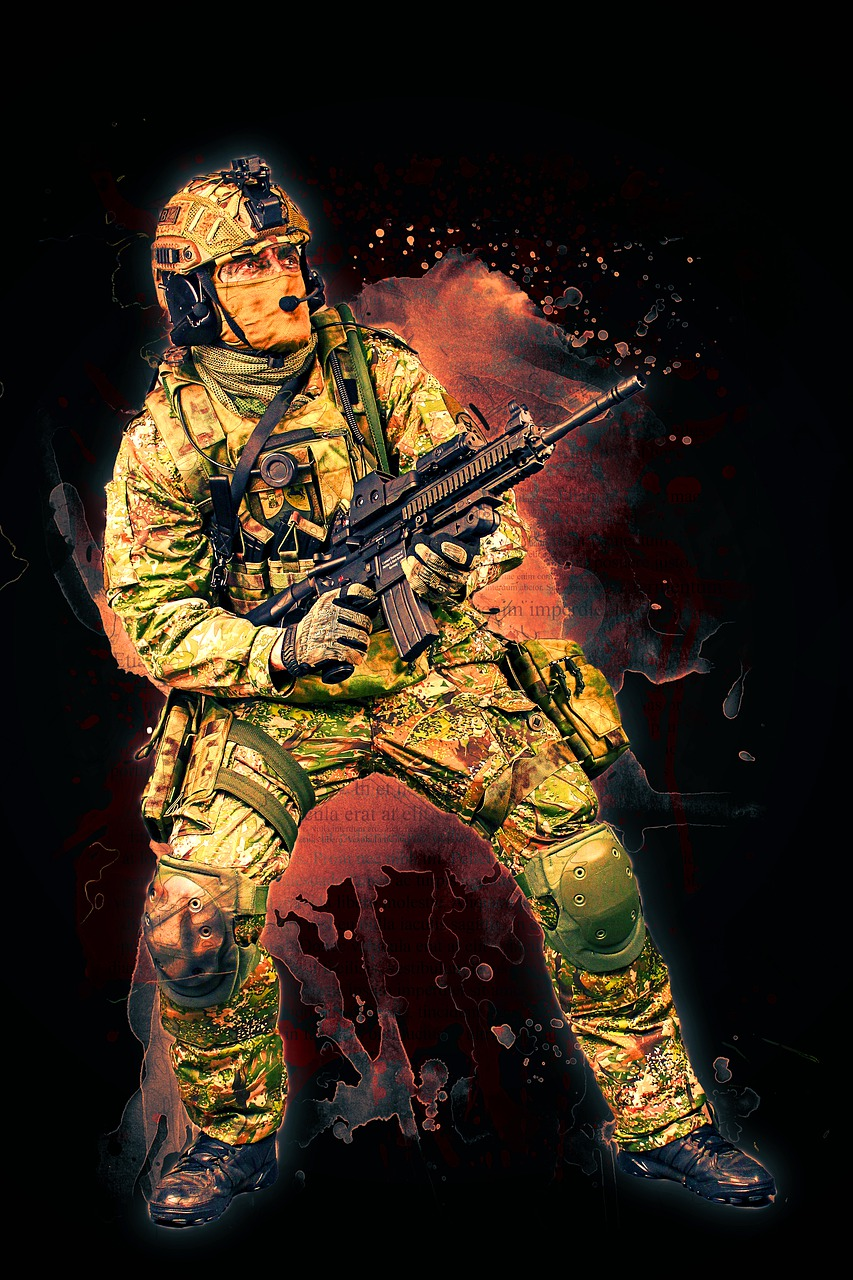gun: (227, 364, 656, 688)
